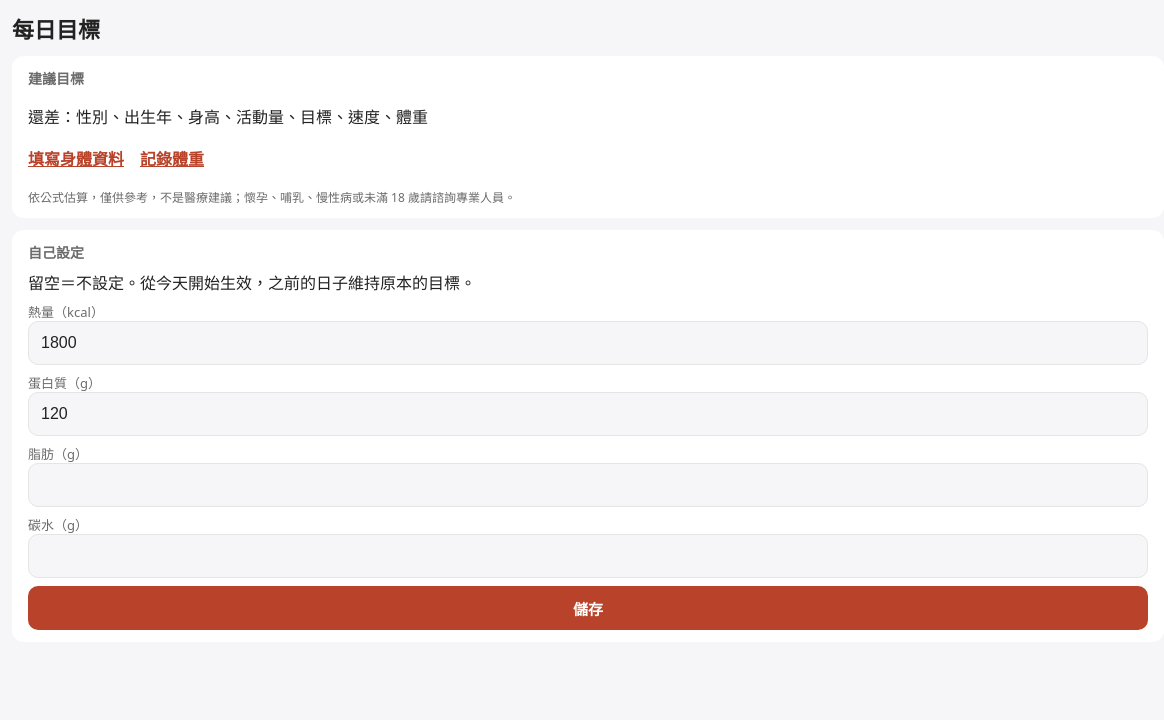
/me/targets › 前端檢查：熱量 0 → 「熱量要是大於 0 的數字」、不送出
Step 1. Replace the text in the field labelled "熱量（kcal）" with "0" → coordinates (588, 343), box x1=28 y1=321 x2=1148 y2=365
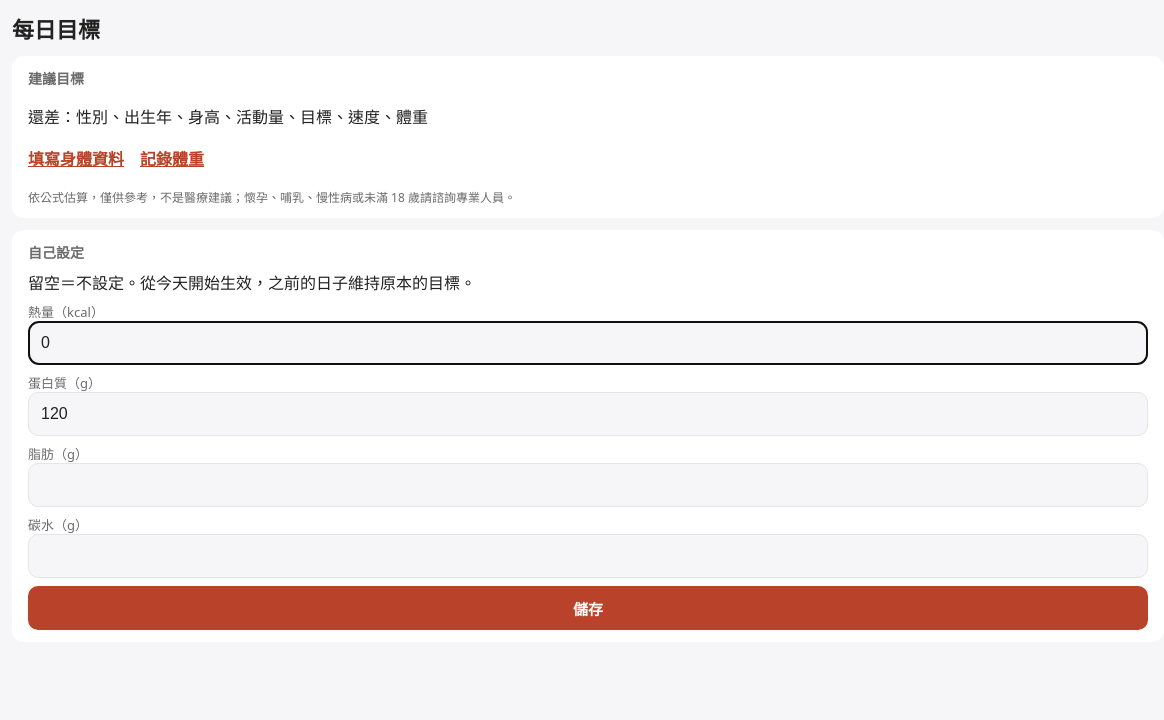
Step 2. Click the button "儲存" → coordinates (588, 608), box x1=28 y1=586 x2=1148 y2=630
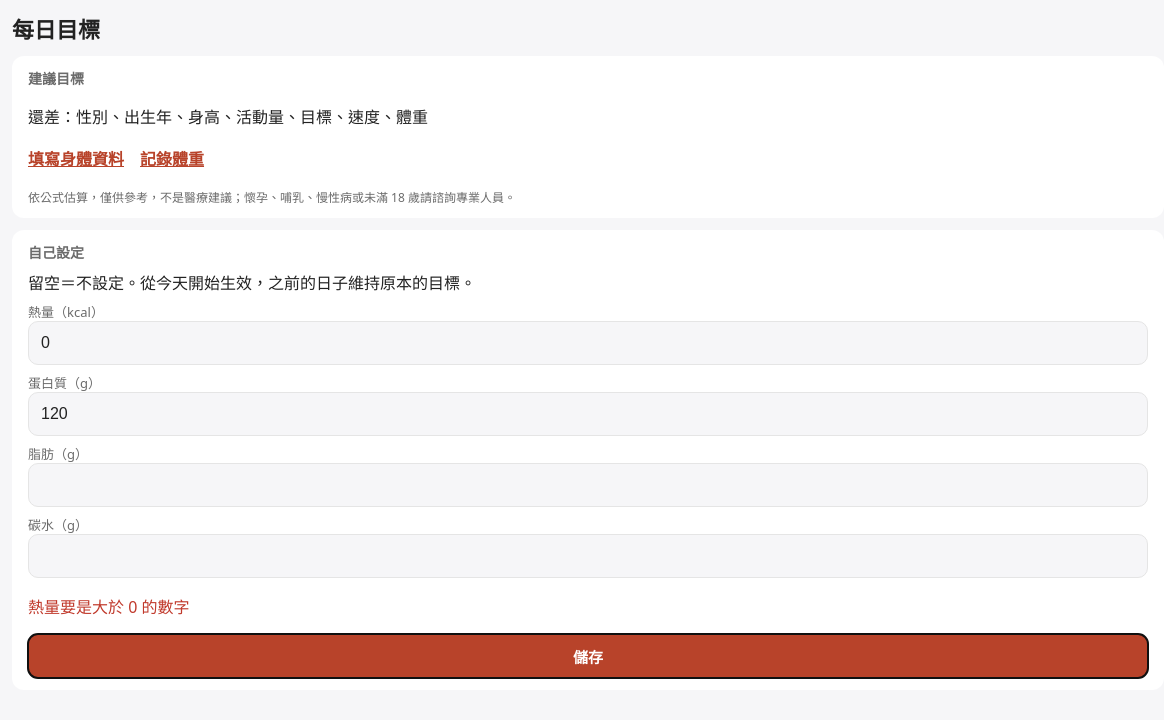
expect the message reads "熱量要是大於 0 的數字": met, box x1=28 y1=596 x2=190 y2=618
